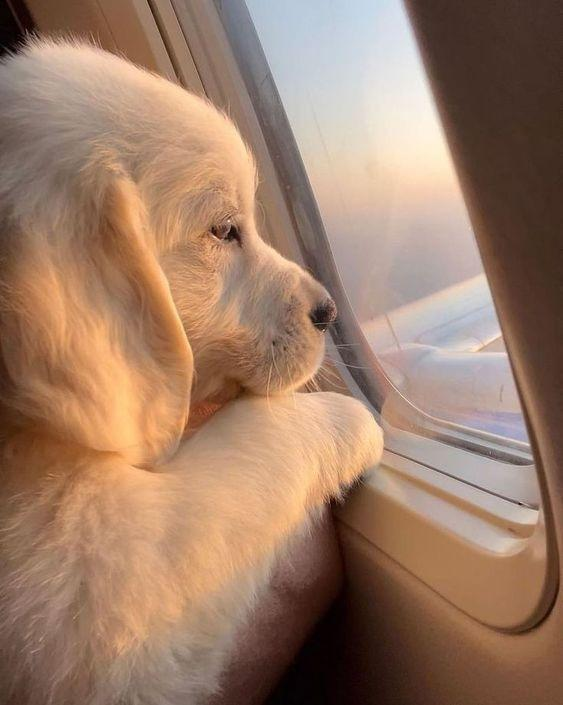puppy-dog: (0, 32, 386, 705)
